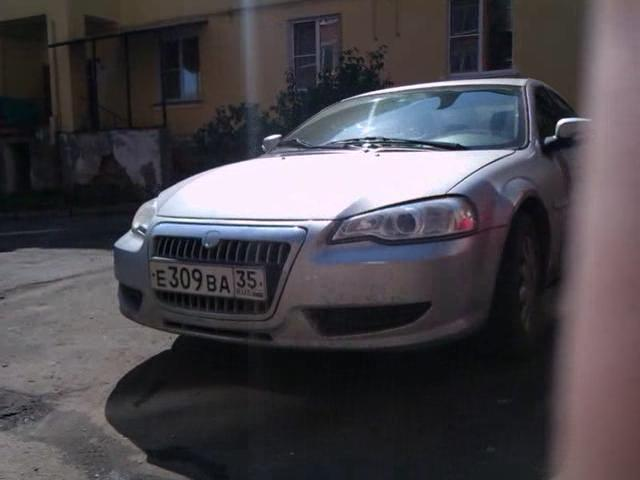car license plate: (151, 255, 270, 309)
